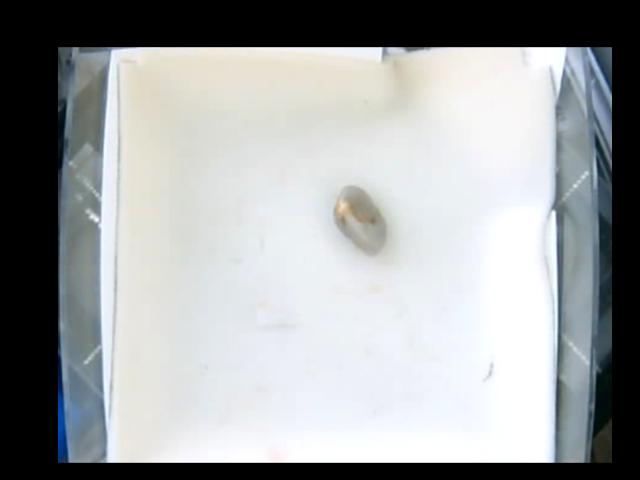Pebble: (332, 185, 388, 259)
